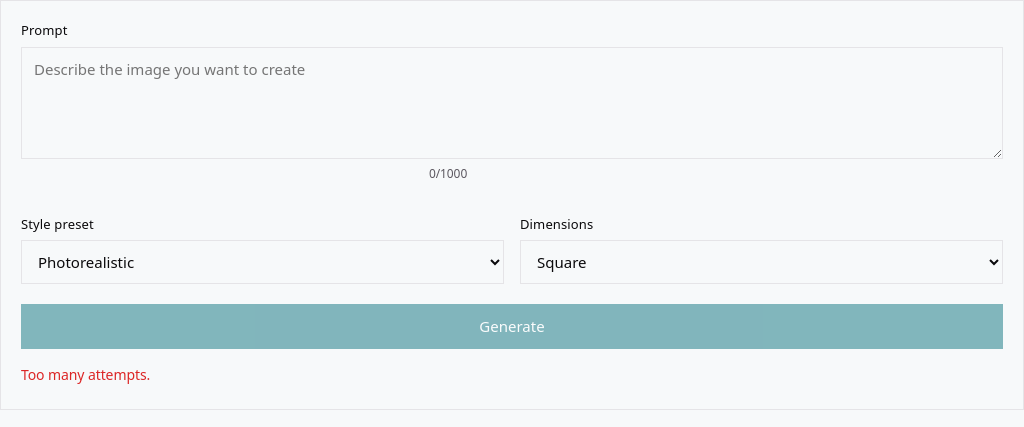
GenerateImageForm › dismisses the server error when the user types a valid prompt
This screenshot has width=1024, height=427.
Type "A quiet harbor" into the text box labelled "Prompt". click: x=512, y=102
box: [21, 46, 1003, 158]
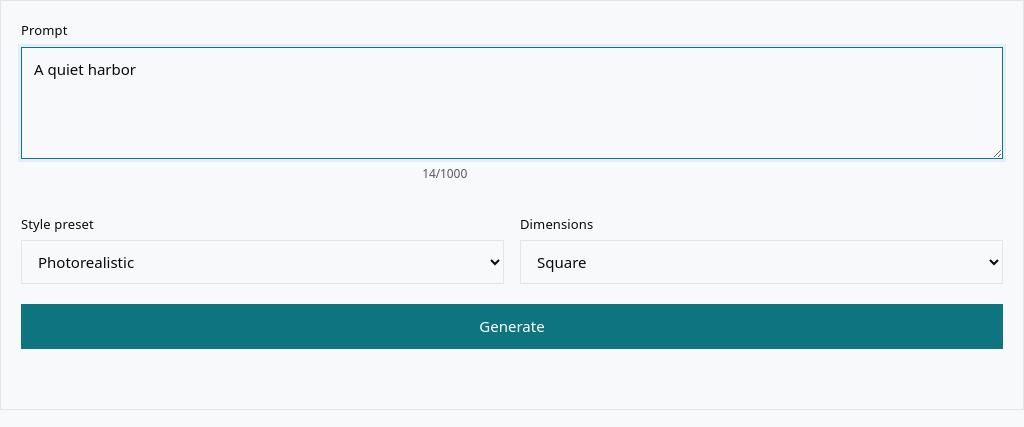
expect the text "Too many attempts." is gone: met
